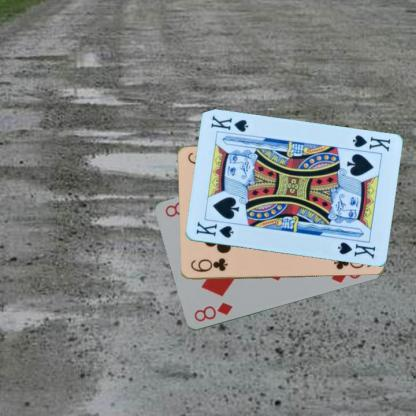6c: (188, 256, 229, 274)
8d: (191, 300, 234, 323)
Ks: (350, 132, 392, 153), (193, 219, 235, 239)
